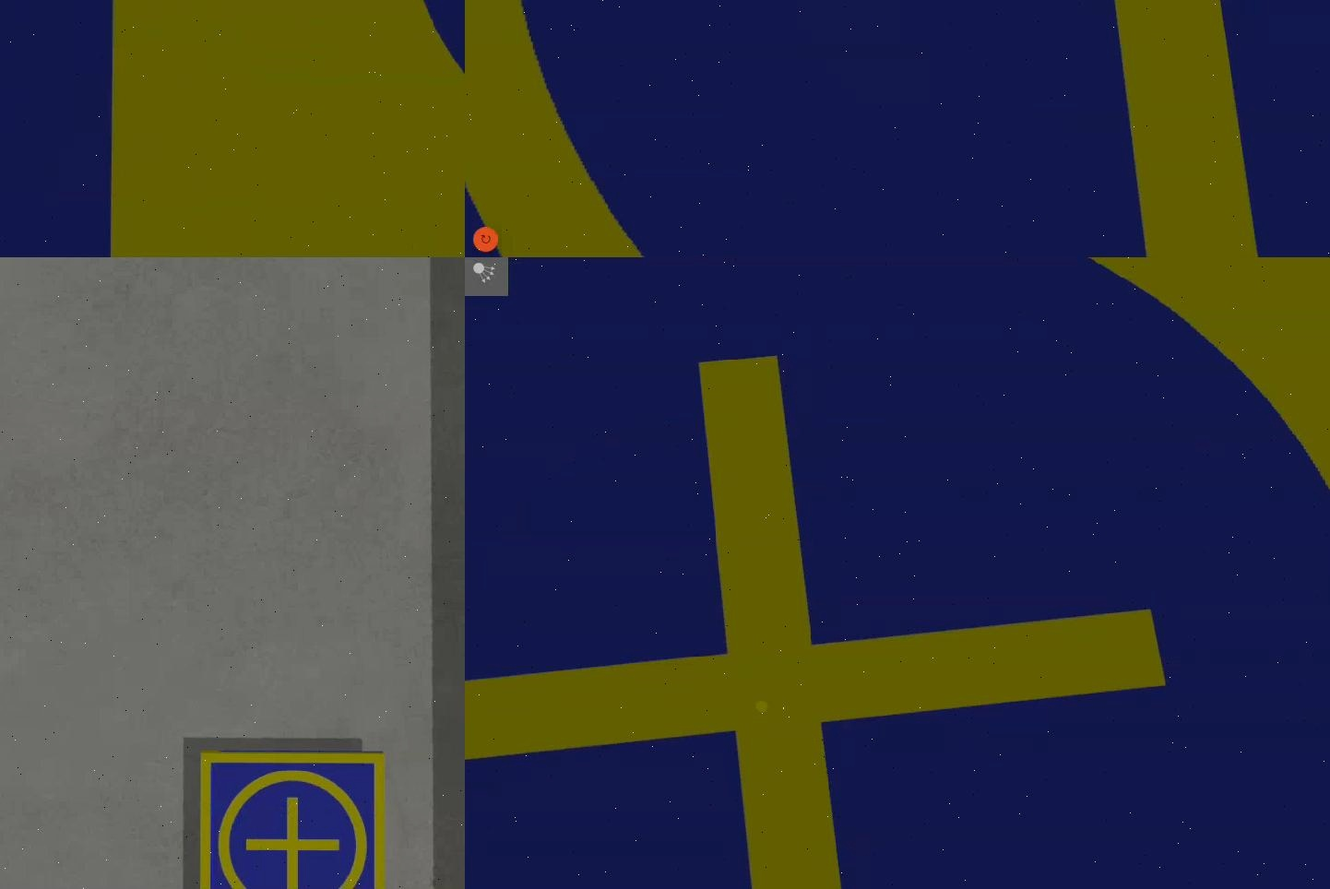large_base: (465, 258, 1330, 889), (1, 1, 465, 258)
small_base: (465, 1, 1330, 258), (199, 750, 384, 889)
